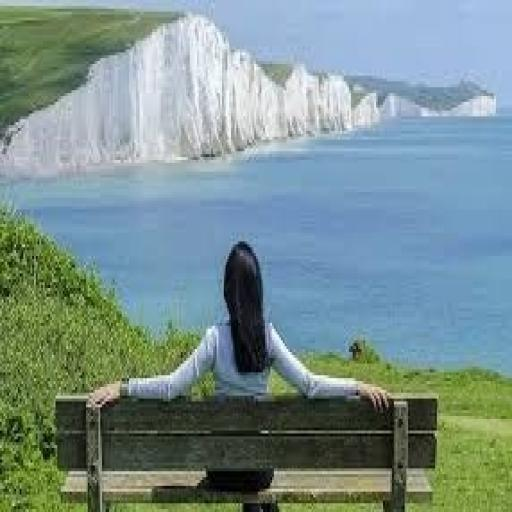sitting: (84, 236, 390, 506)
